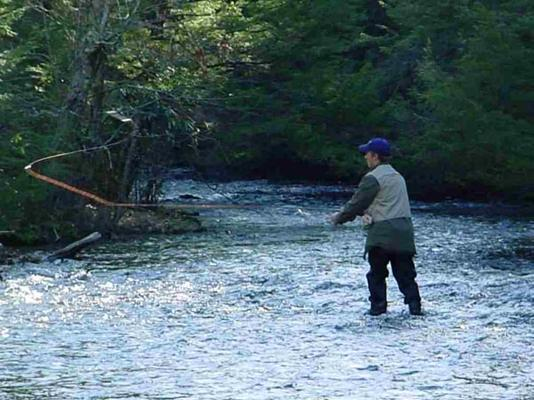person: (325, 137, 425, 316)
